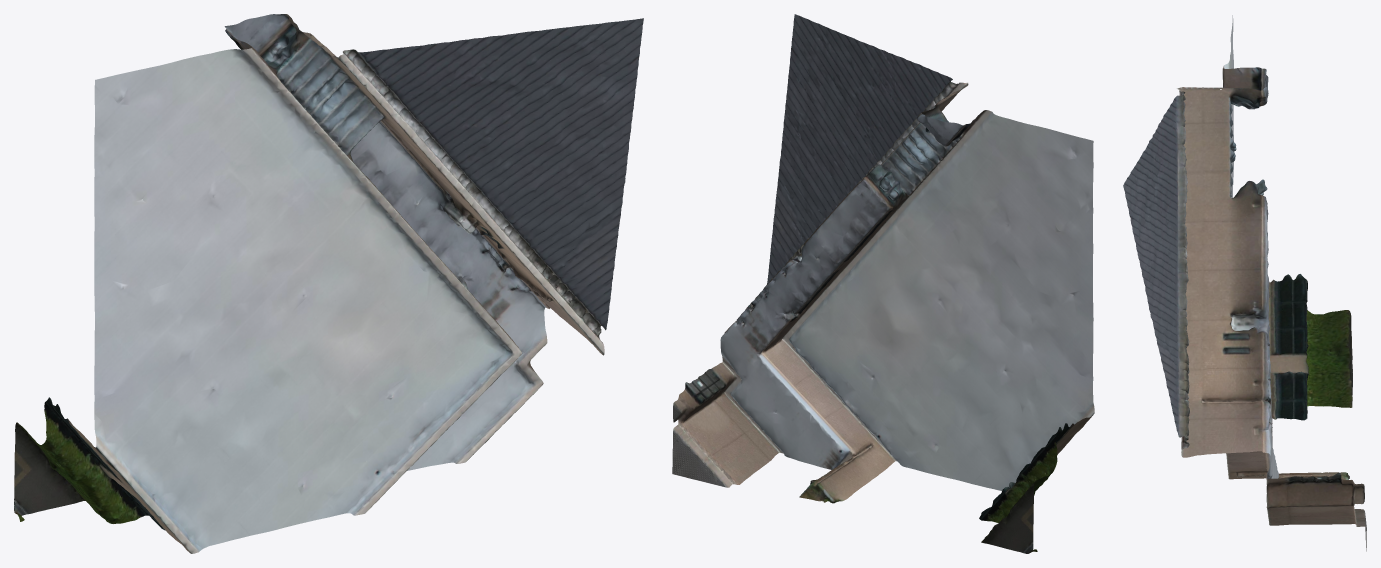
The model's file is Tile_+010_+013.fbx.
The picture shows the model from 3 angles, left to right: view 1: azimuth 30°, elevation 25°; view 2: azimuth 150°, elevation 25°; view 3: azimuth 270°, elevation 25°; orthographic projection. The views are drawn at different scales.
Visible parts, largest first — view 1: DefaultName; view 2: DefaultName; view 3: DefaultName.
Boxes of the visible parts, x1,y1,x2,y2 form: DefaultName: (14, 14, 643, 553); DefaultName: (672, 14, 1094, 553); DefaultName: (1123, 15, 1366, 551).
Size of the model in its own units: 22.54 by 22.54 by 13.53.
